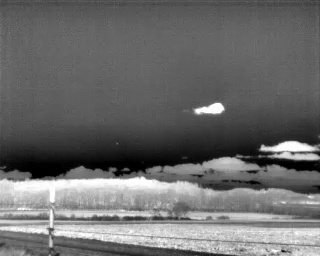DRONE: (191, 97, 227, 120)
